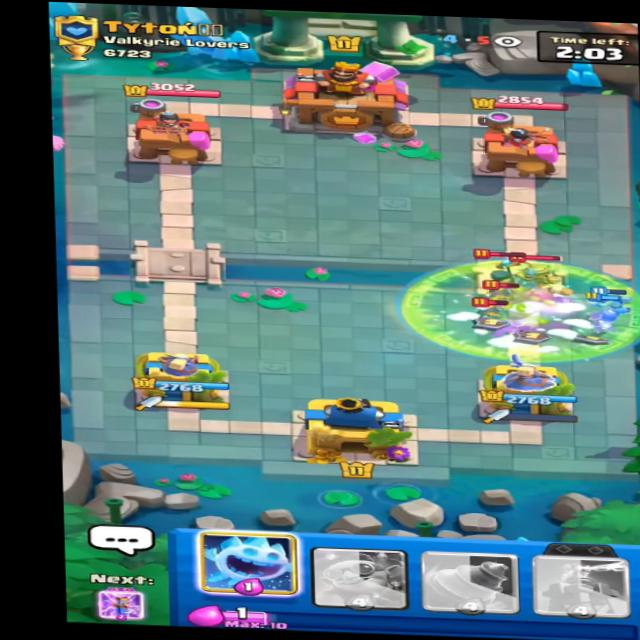Bat: (466, 300, 503, 322), (482, 280, 519, 302)
Nightwitch: (471, 244, 516, 292)
Prince: (518, 250, 569, 305)
